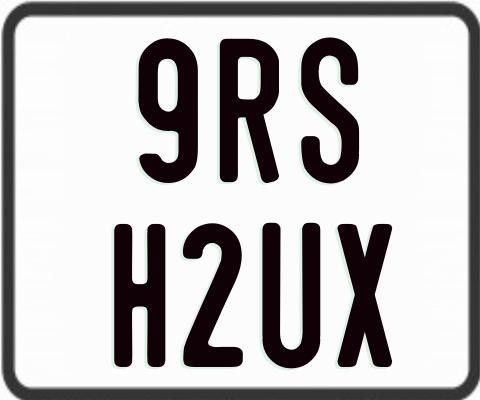2: (183, 221, 247, 367)
9: (135, 38, 198, 183)
H: (112, 222, 165, 368)
R: (220, 36, 284, 185)
S: (300, 36, 360, 183)
U: (262, 222, 321, 367)
X: (334, 222, 390, 365)
